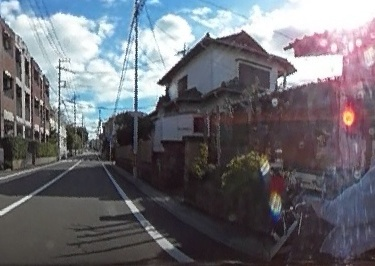person: (284, 65, 375, 256)
